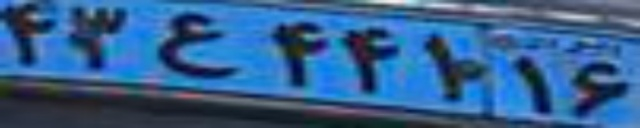1: (419, 32, 461, 100), (508, 53, 551, 111)
3: (66, 3, 131, 71)
4: (271, 20, 331, 86), (341, 25, 401, 90), (2, 2, 57, 66)
6: (570, 61, 629, 117)
ain: (154, 14, 234, 78)
